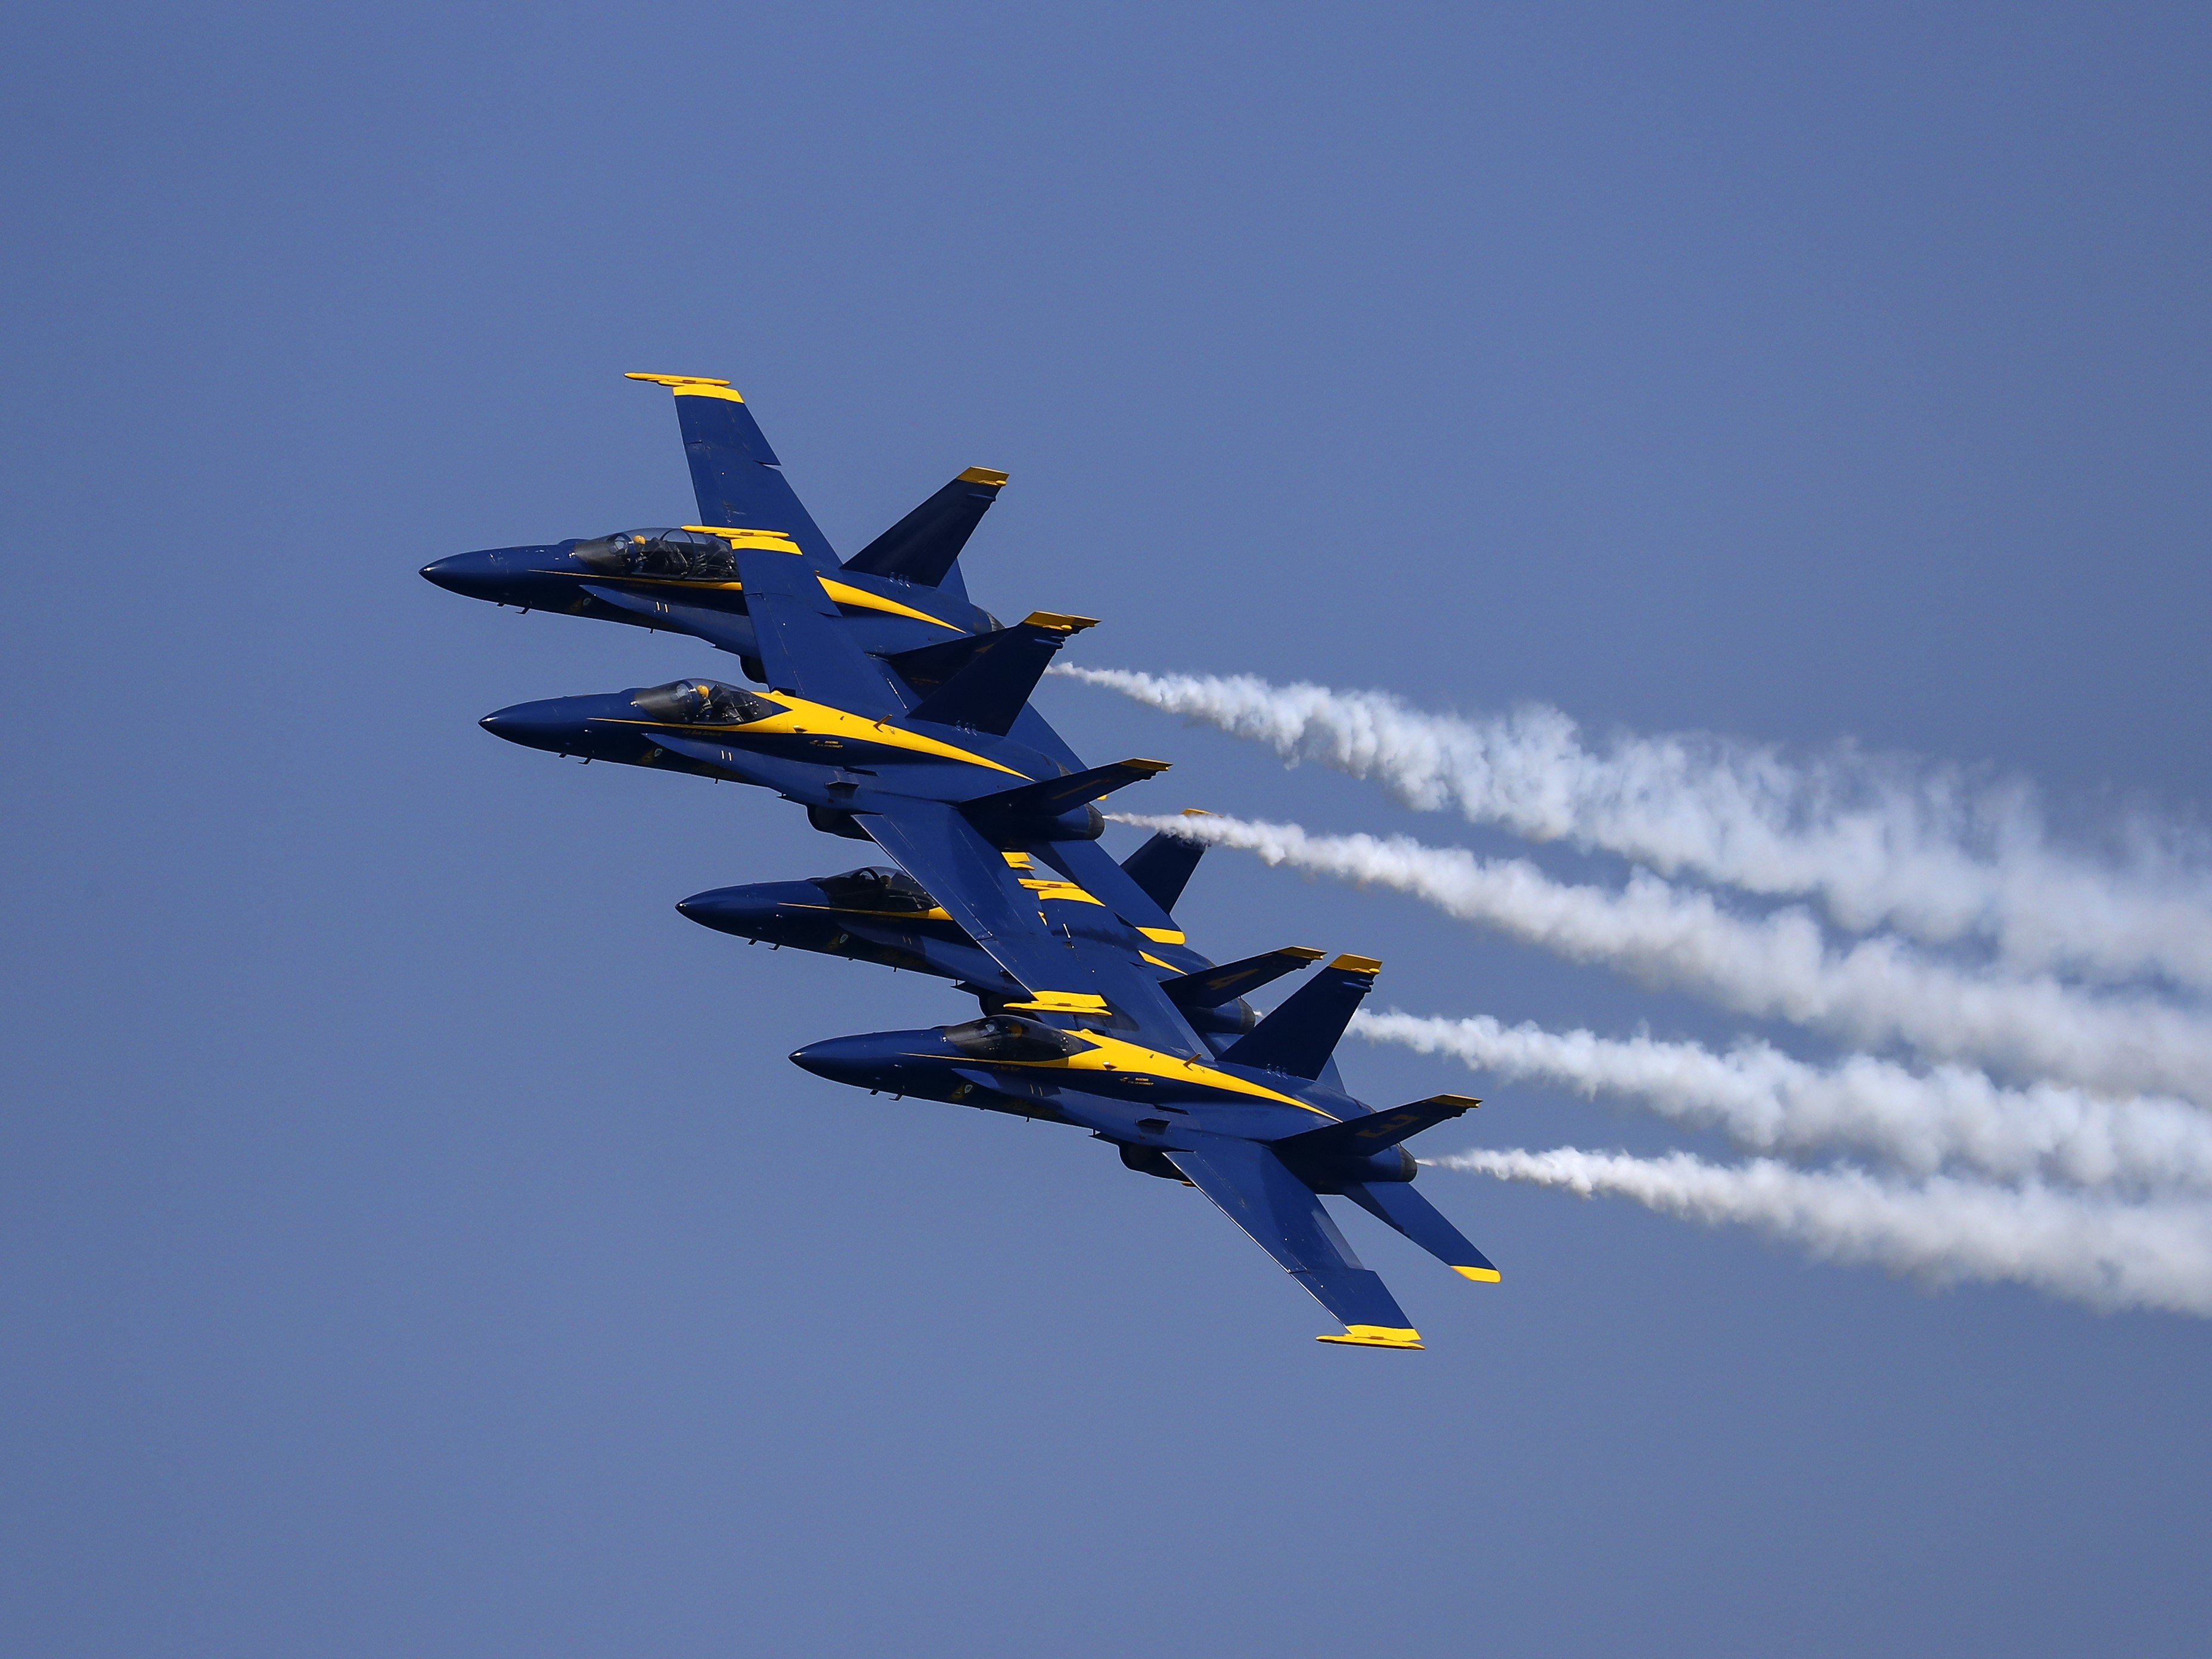plane: (770, 948, 1498, 1345), (399, 357, 1026, 650), (472, 610, 1174, 816), (671, 816, 1303, 1021)
